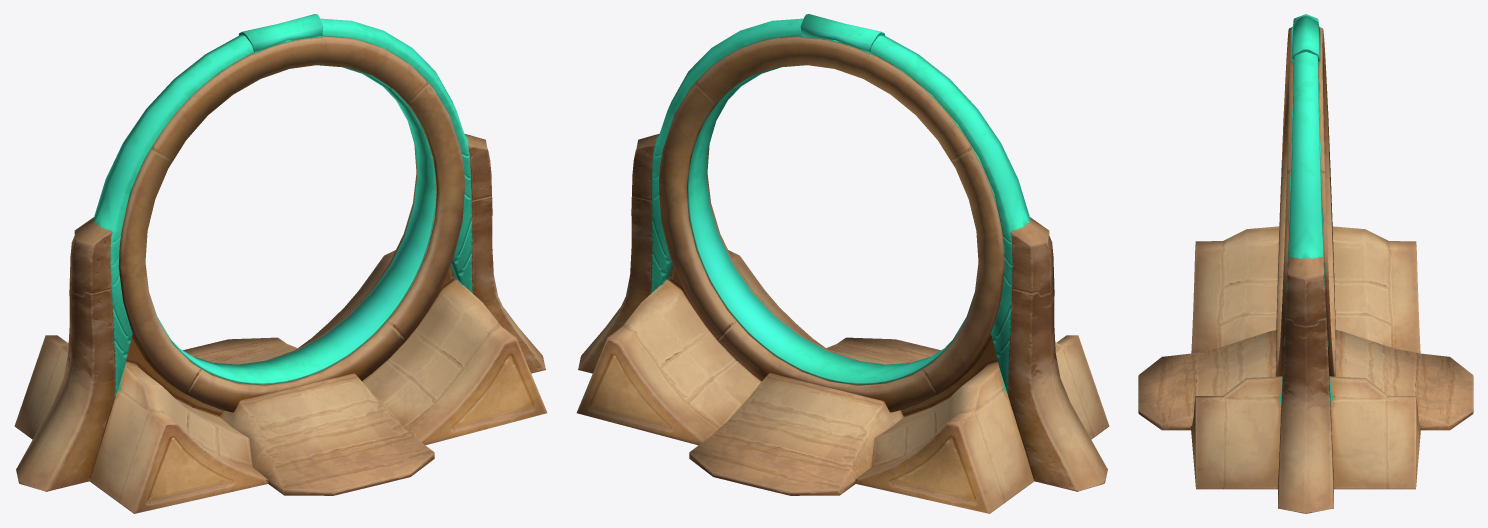
Rendered from Portal.FBX.
3 views of the same model, side by side, from view 1: azimuth 30°, elevation 25°; view 2: azimuth 150°, elevation 25°; view 3: azimuth 270°, elevation 25° (orthographic). The views are drawn at different scales.
Parts seen in each view (by area): view 1: Portal; view 2: Portal; view 3: Portal.
Boxes of the visible parts, left/top/right/bottom form: Portal: left=14, top=14, right=547, bottom=513; Portal: left=576, top=14, right=1109, bottom=513; Portal: left=1138, top=14, right=1473, bottom=513.
Bounding box in the file's own units: 5.43 × 3.93 × 3.28.
